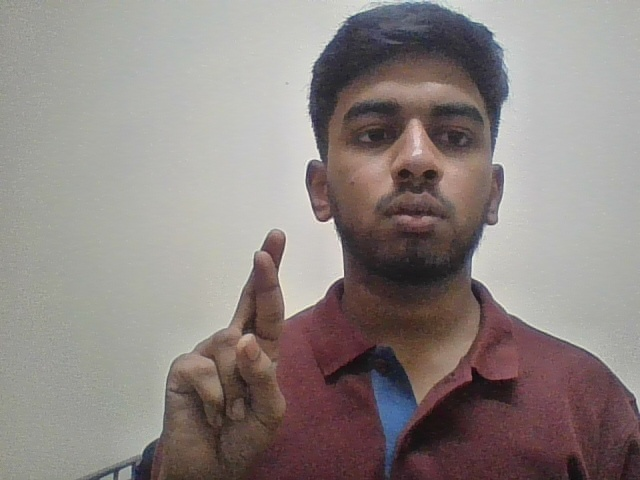R: (143, 199, 299, 480)
